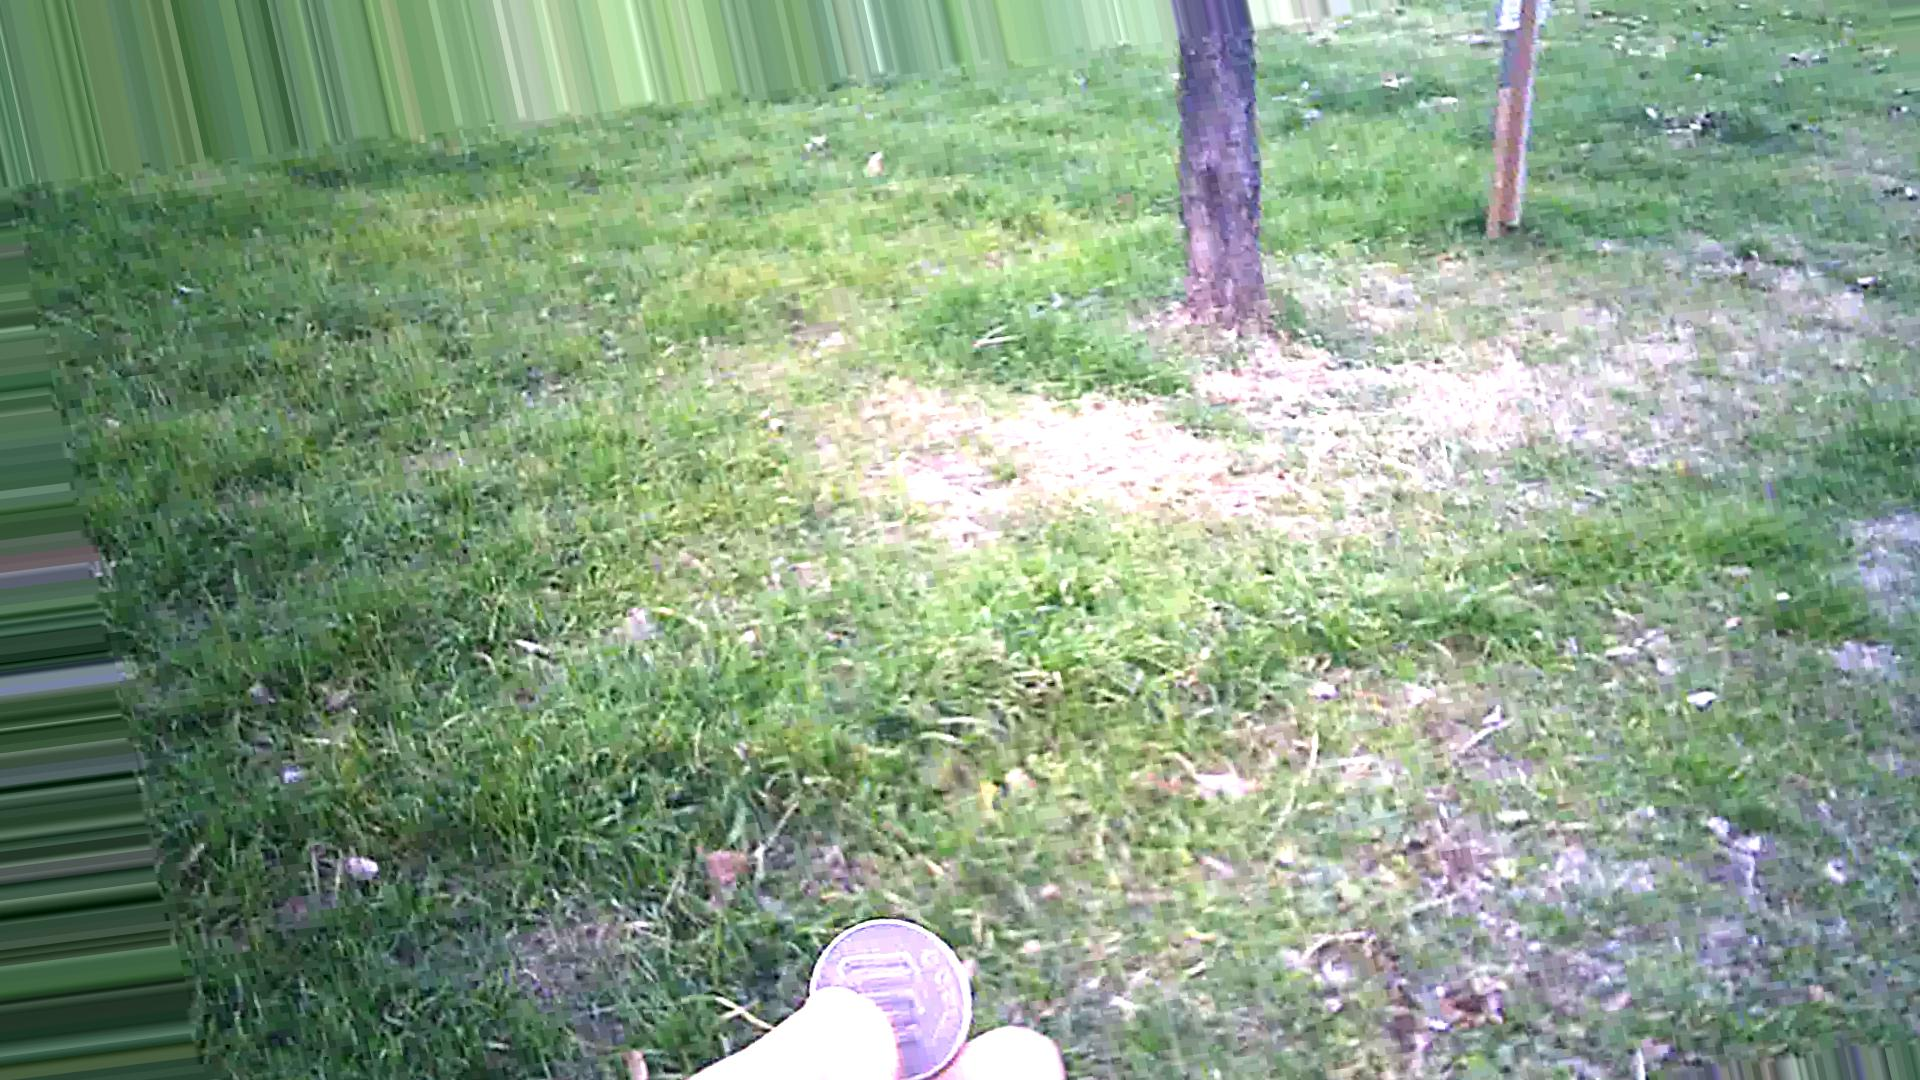100 Yen: (803, 913, 984, 1071)
